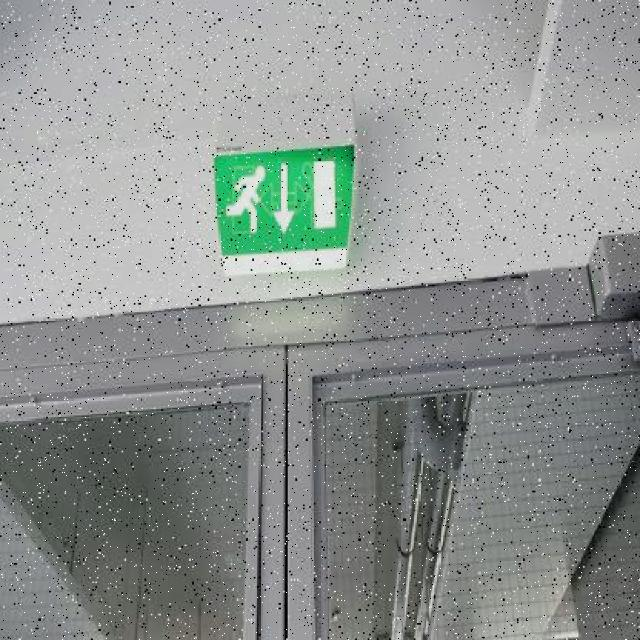emergency_exit: (212, 143, 355, 272)
